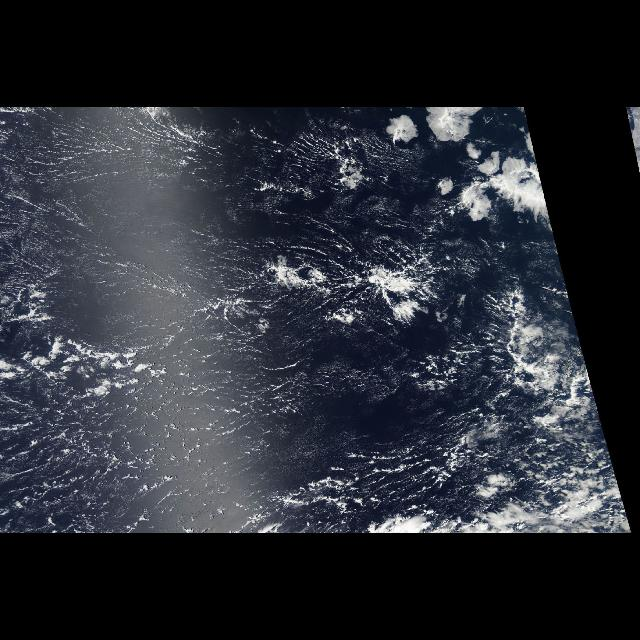Fish: (426, 111, 544, 221)
Sugar: (4, 108, 402, 512)
